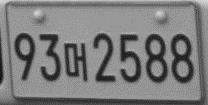2: (92, 32, 116, 83)
3: (38, 32, 61, 82)
5: (119, 33, 141, 83)
8: (169, 32, 194, 83), (144, 33, 167, 82)
9: (13, 31, 35, 81)
머: (63, 41, 88, 81)
